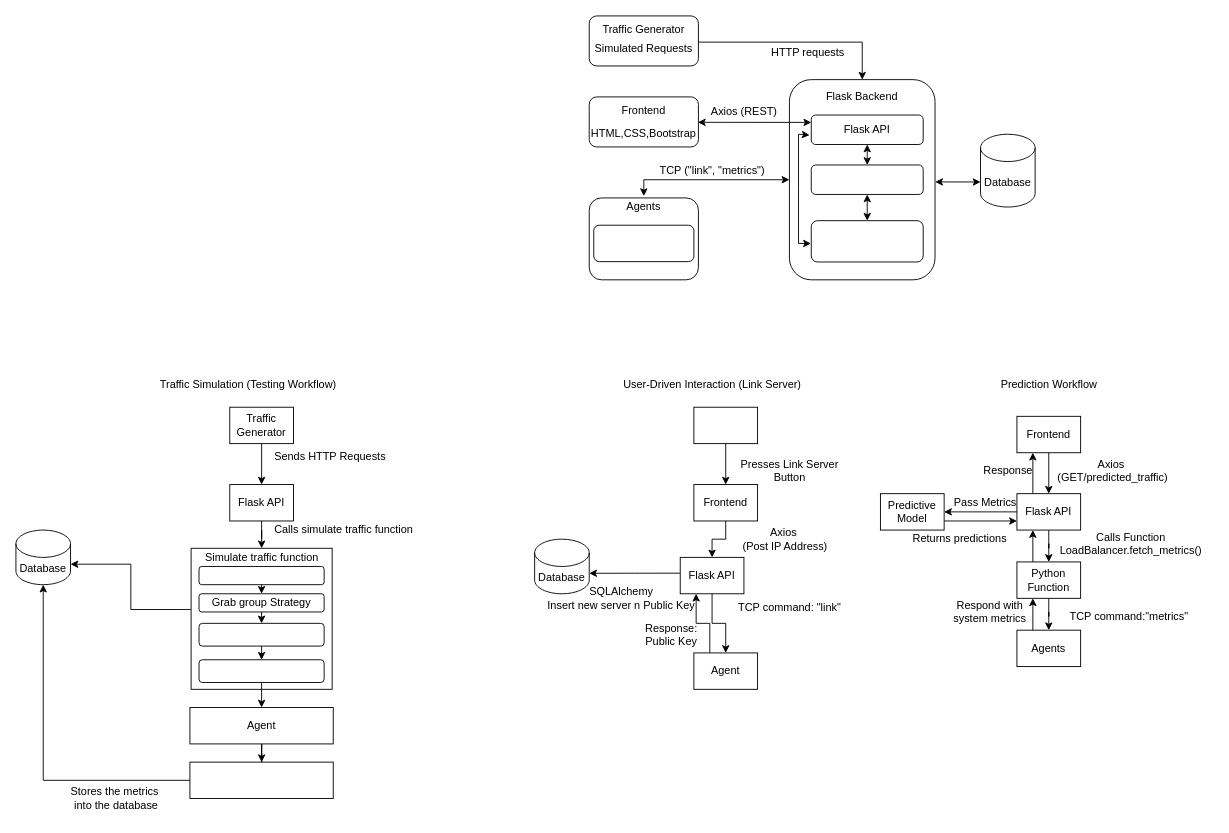
Some shapes in this 1229 by 833 pixel diagram are drawn without their labels. Each missing label, with the centre of its shape:
"Agent Functions" belongs at point 643,243.
"Chooses Group Randomly" belongs at point 261,575.
"Execute Strategy returns chosen Server" belongs at point 261,634.
"Predictive Model (LightGBM)" belongs at point 866,241.
"Python Function Collects Agent Metrics" belongs at point 261,780.
"Python Functions" belongs at point 866,179.
"Send Traffic to that Server" belongs at point 261,670.
"User" belongs at point 725,425.
